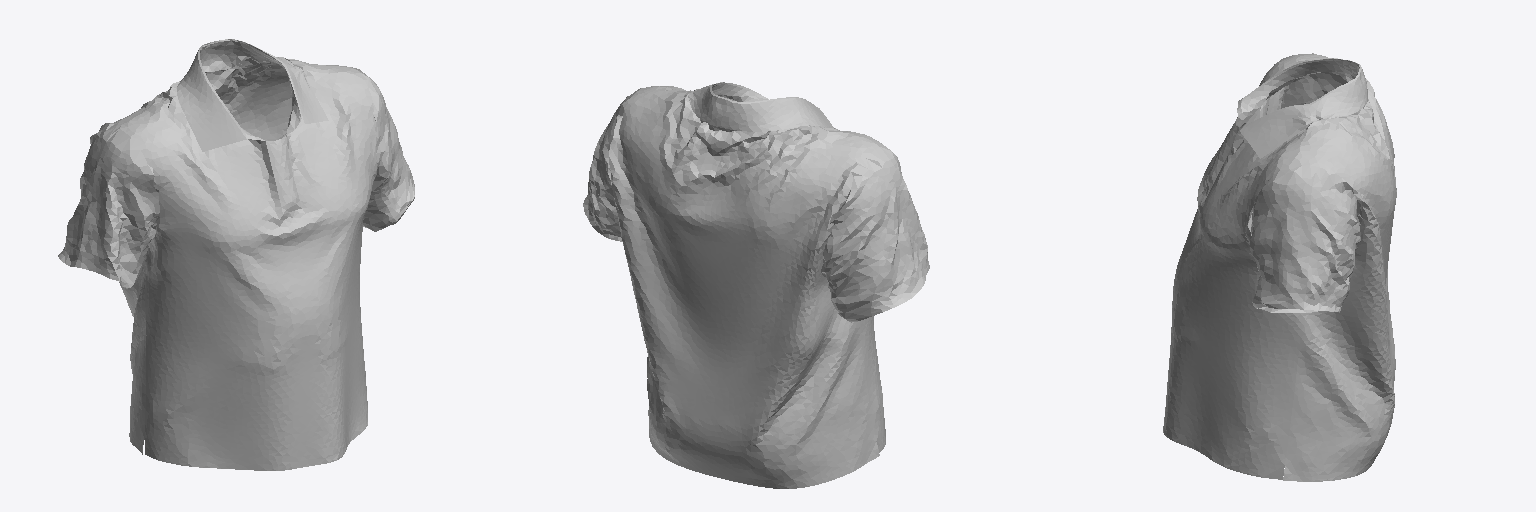
The model's file is Large_Short.obj.
3 views of the same model, side by side, from view 1: azimuth 30°, elevation 25°; view 2: azimuth 150°, elevation 25°; view 3: azimuth 270°, elevation 25° (orthographic).
Parts seen in each view (by area): view 1: polo3-30.009; view 2: polo3-30.009; view 3: polo3-30.009.
Part boxes in pixels (bbox=[...]): polo3-30.009: bbox=[58, 39, 414, 470]; polo3-30.009: bbox=[583, 82, 929, 488]; polo3-30.009: bbox=[1163, 53, 1396, 481].
Bounding box in the file's own units: 0.6235 × 0.6579 × 0.3746.